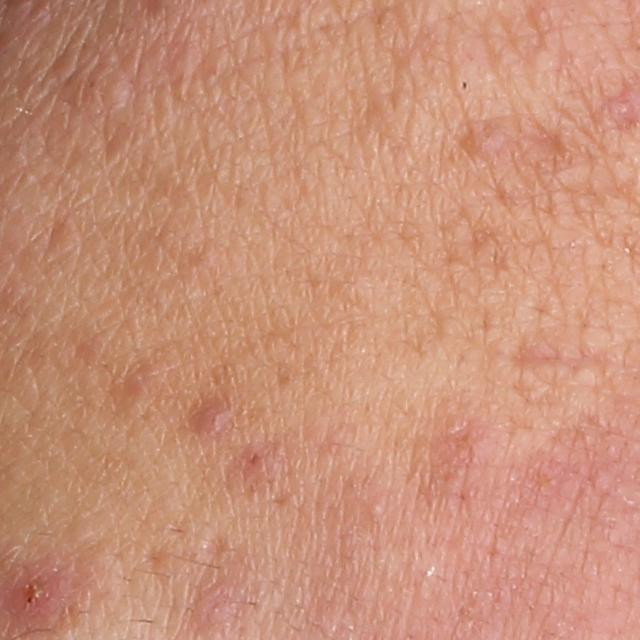atrophic_scar: (203, 530, 225, 561)
comedo: (454, 72, 473, 95), (366, 502, 387, 519)
papule: (8, 573, 61, 618), (188, 588, 239, 630), (189, 400, 234, 439)
